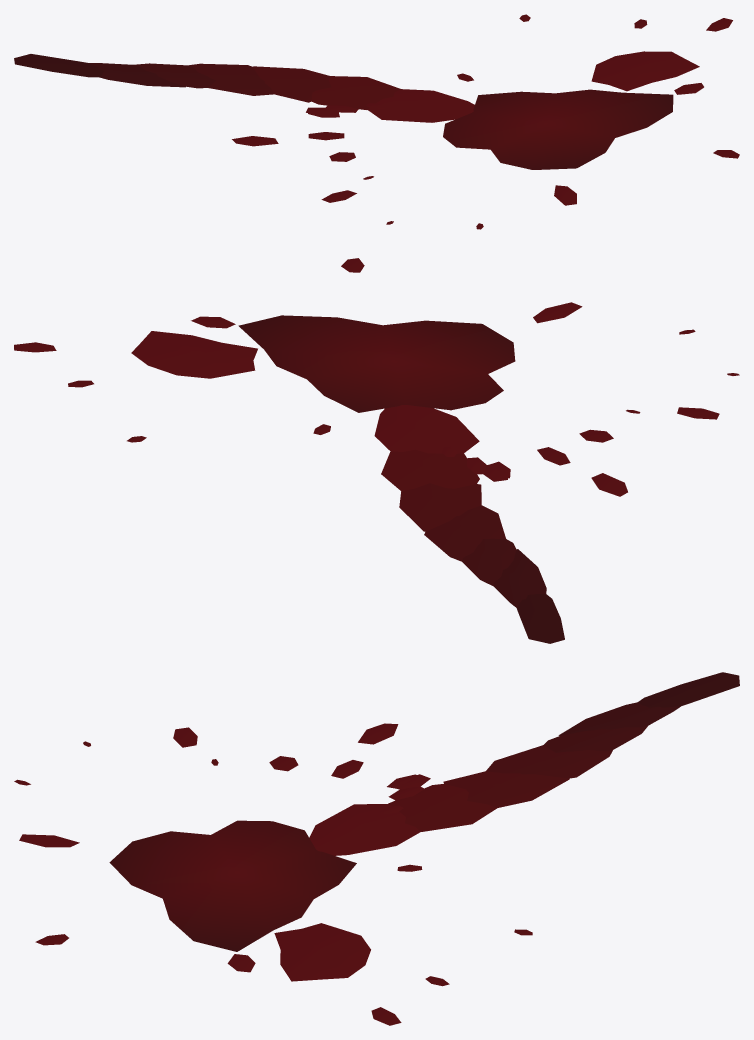
File: blood_puddle.glb
The picture shows the model from 3 angles, top to bottom: view 1: azimuth 30°, elevation 25°; view 2: azimuth 150°, elevation 25°; view 3: azimuth 270°, elevation 25°; orthographic projection. The views are drawn at different scales.
Parts seen in each view (by area): view 1: blood_puddle; view 2: blood_puddle; view 3: blood_puddle.
Boxes of the visible parts, x1,y1,x2,y2 form: blood_puddle: [14, 14, 739, 229]; blood_puddle: [14, 258, 739, 643]; blood_puddle: [14, 672, 739, 1025].
Size of what is drawn, in the model's own units: 1.99 by 0.007 by 1.72.
